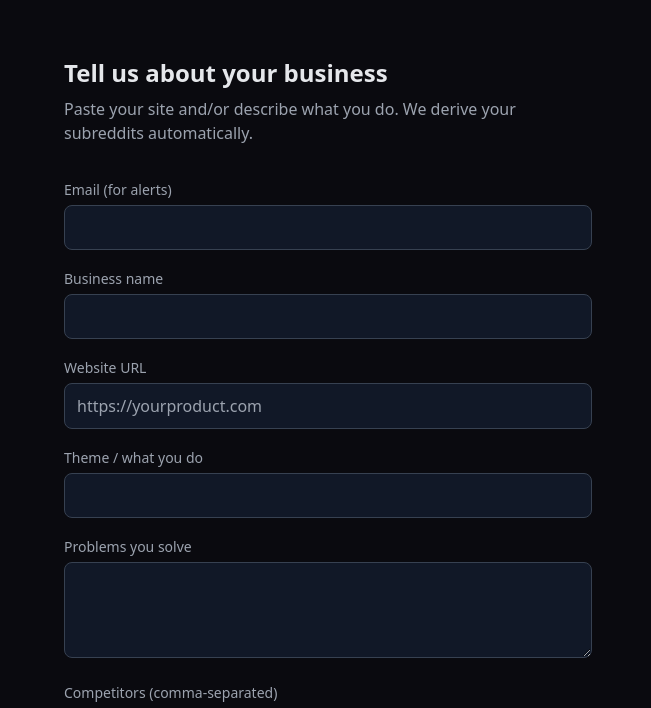
Onboarding › shows the result screen with profile, subreddits, and keywords on success
Type "u@example.com" into the field labelled "Email (for alerts)". click: (328, 228)
box: [64, 205, 592, 250]
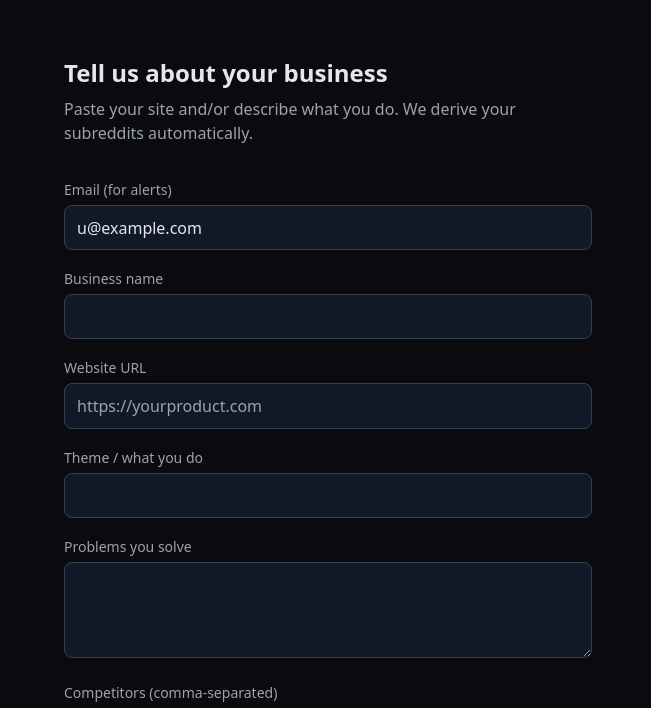
Type "Acme" into the field labelled "Business name". click: (328, 317)
box: [64, 294, 592, 339]
(page scrolled)
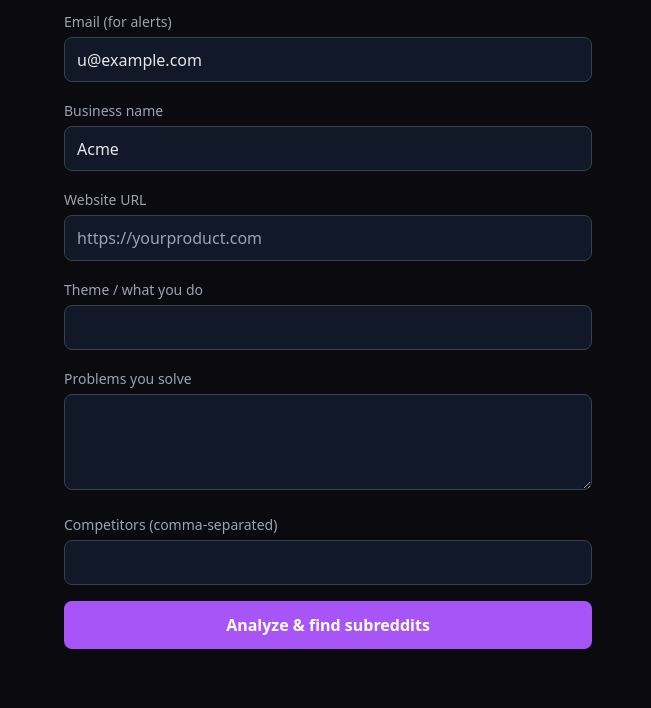
Click the button "Analyze & find subreddits". click: (328, 625)
box: [64, 601, 592, 649]
(page scrolled)
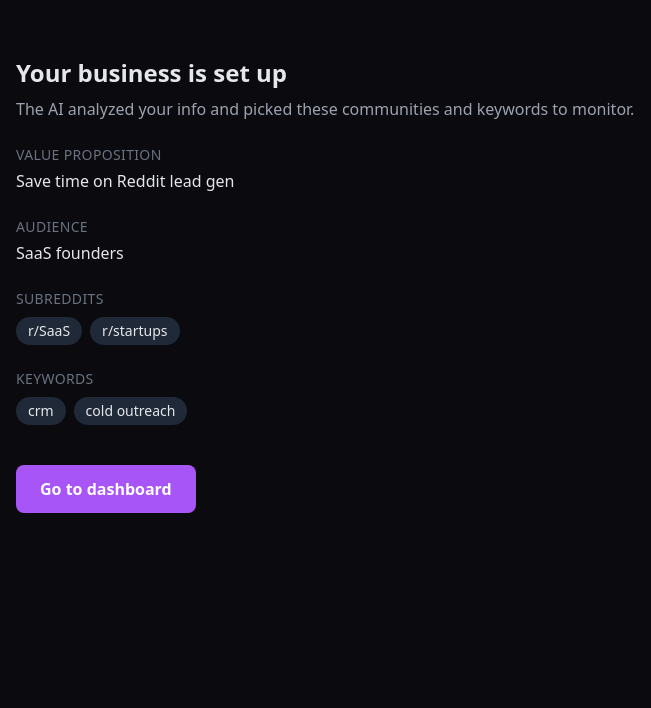
Check: the heading "Your business is set up" is shown, box [16, 56, 287, 89]
Check: the text "Save time on Reddit lead gen" is shown, box [16, 170, 234, 192]
Check: the text "SaaS founders" is shown, box [16, 242, 124, 264]
